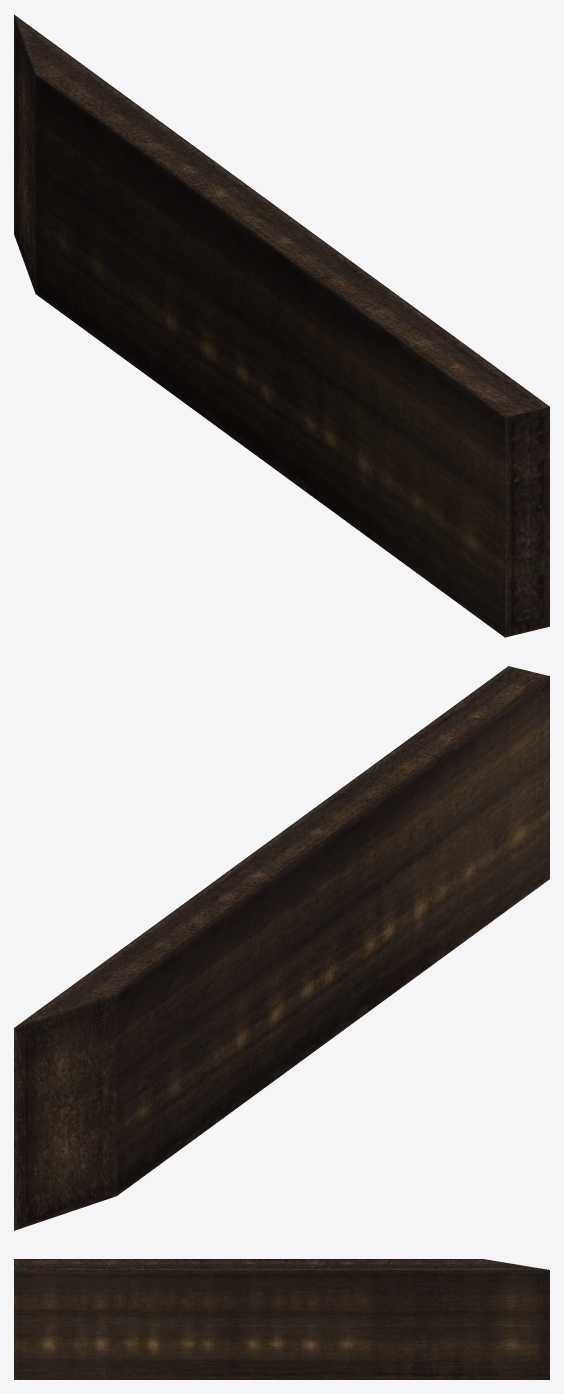
The model's file is raque_side_lvl_3.glb.
3 views of the same model, one above another, from view 1: azimuth 30°, elevation 25°; view 2: azimuth 150°, elevation 25°; view 3: azimuth 270°, elevation 25° (orthographic). The views are drawn at different scales.
Visible parts, largest first — view 1: Mesh_0.001; view 2: Mesh_0.001; view 3: Mesh_0.001.
Part boxes in pixels (left/top/right/bottom): Mesh_0.001: left=14, top=14, right=549, bottom=637; Mesh_0.001: left=14, top=666, right=549, bottom=1230; Mesh_0.001: left=14, top=1259, right=549, bottom=1379.
Size of the model in its own units: 0.00928 by 0.0433 by 0.1914.
Materials: 1 (1 with a texture image).
